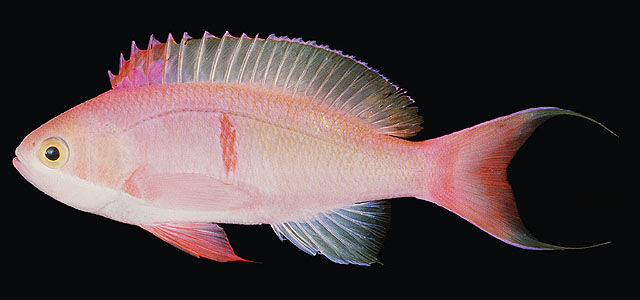fish: (12, 30, 619, 267)
